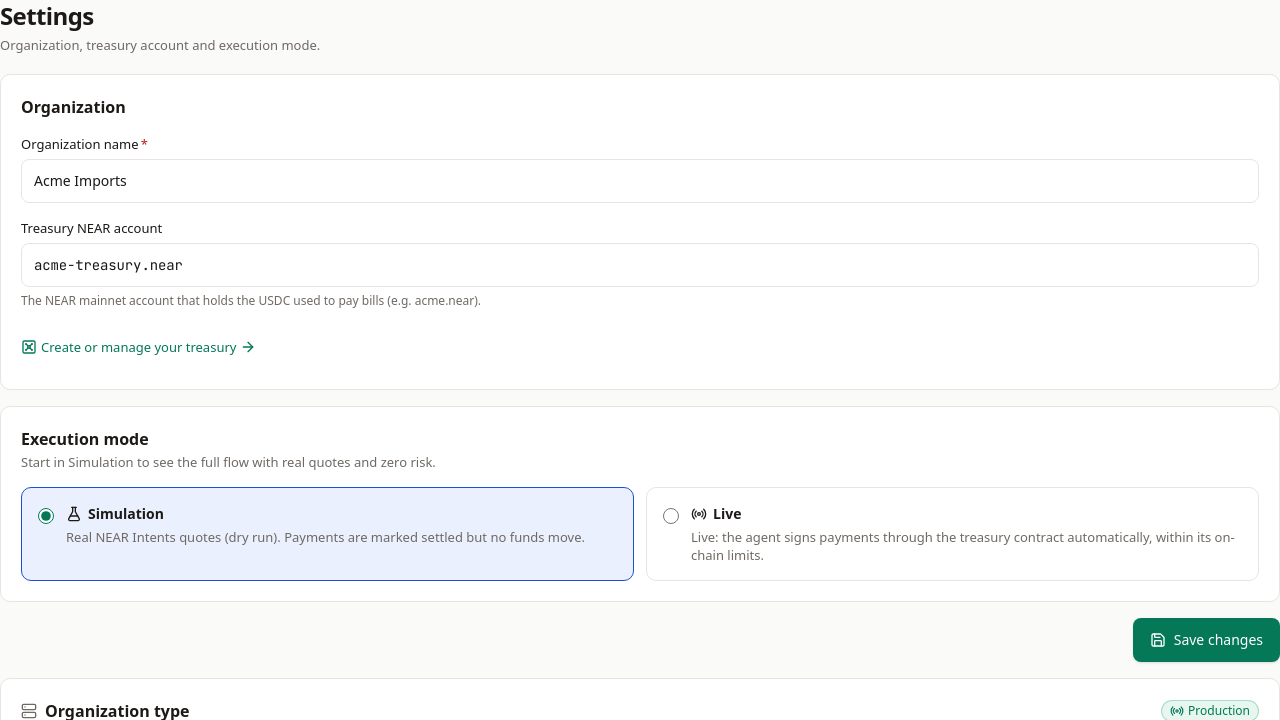
Test: settings: treasury › shows why Live was rejected and links to Treasury
Click the radio button with test id "mode-live" at (671, 516), box [663, 508, 679, 524]
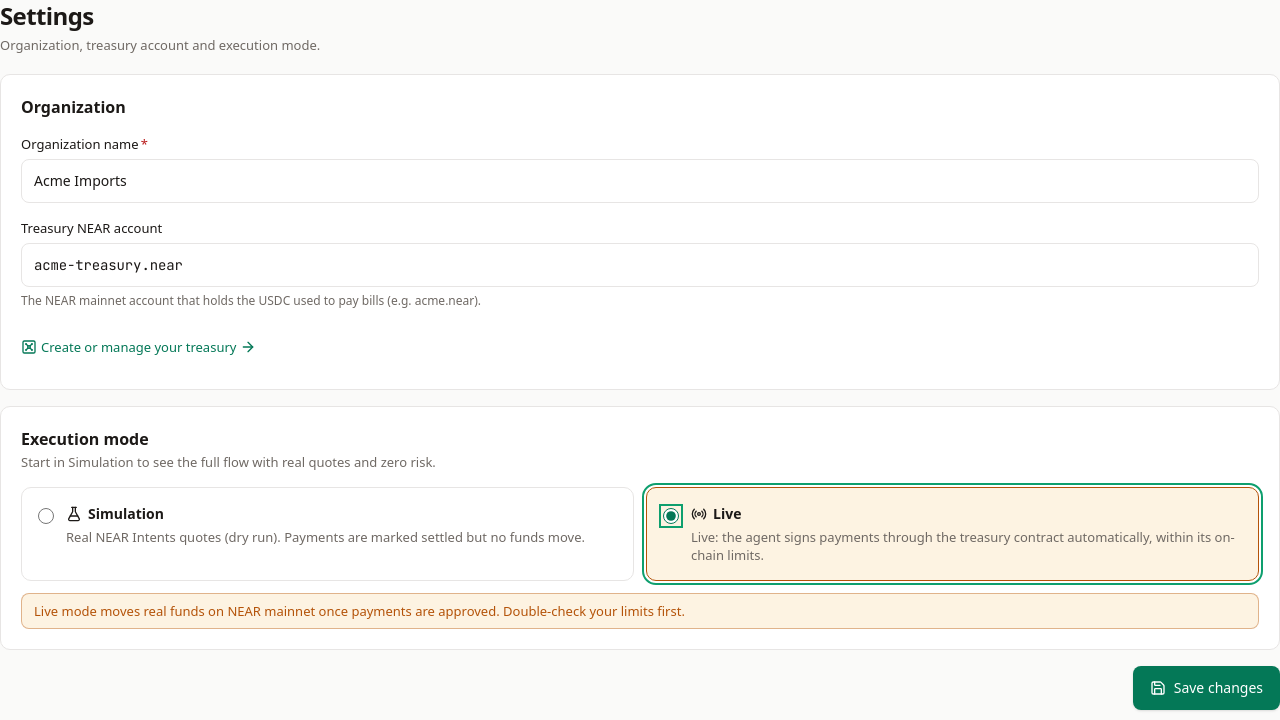
Click the button "Save changes" at (1206, 688), box [1133, 666, 1279, 710]
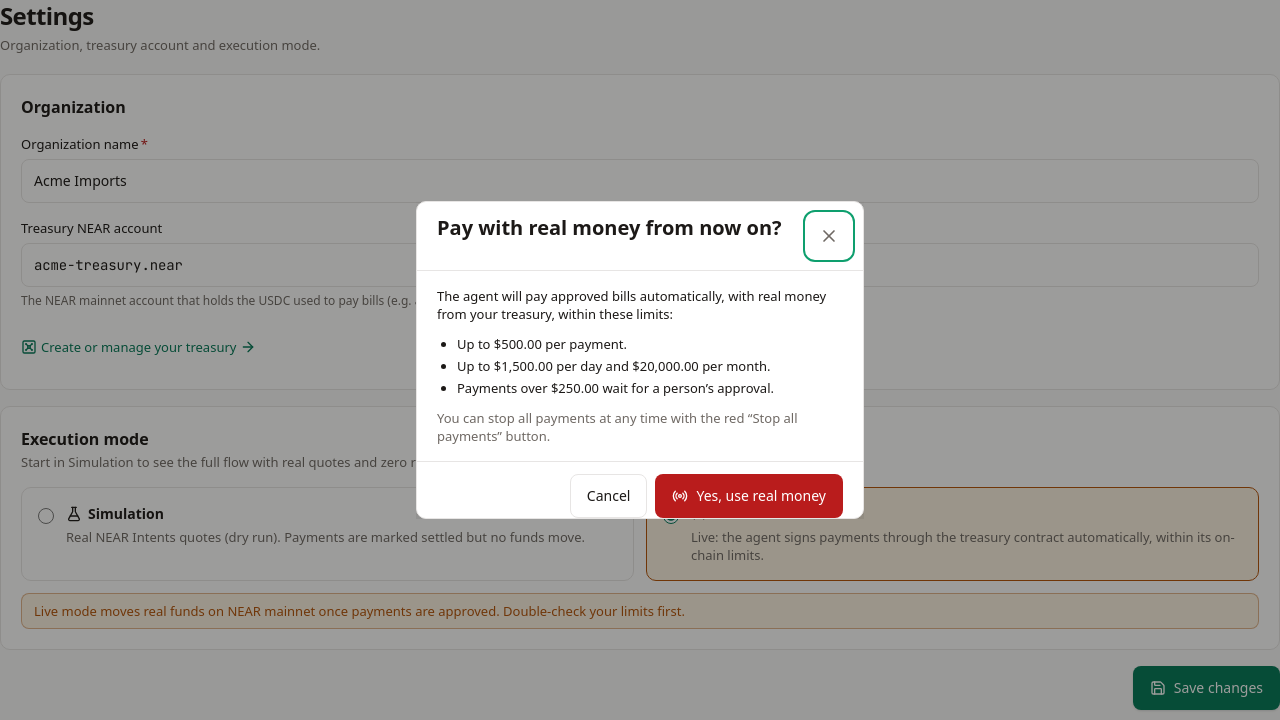
// Real money: a confirmation first.
Click the button with test id "live-confirm-dialog-confirm" at (749, 496), box [655, 474, 843, 518]
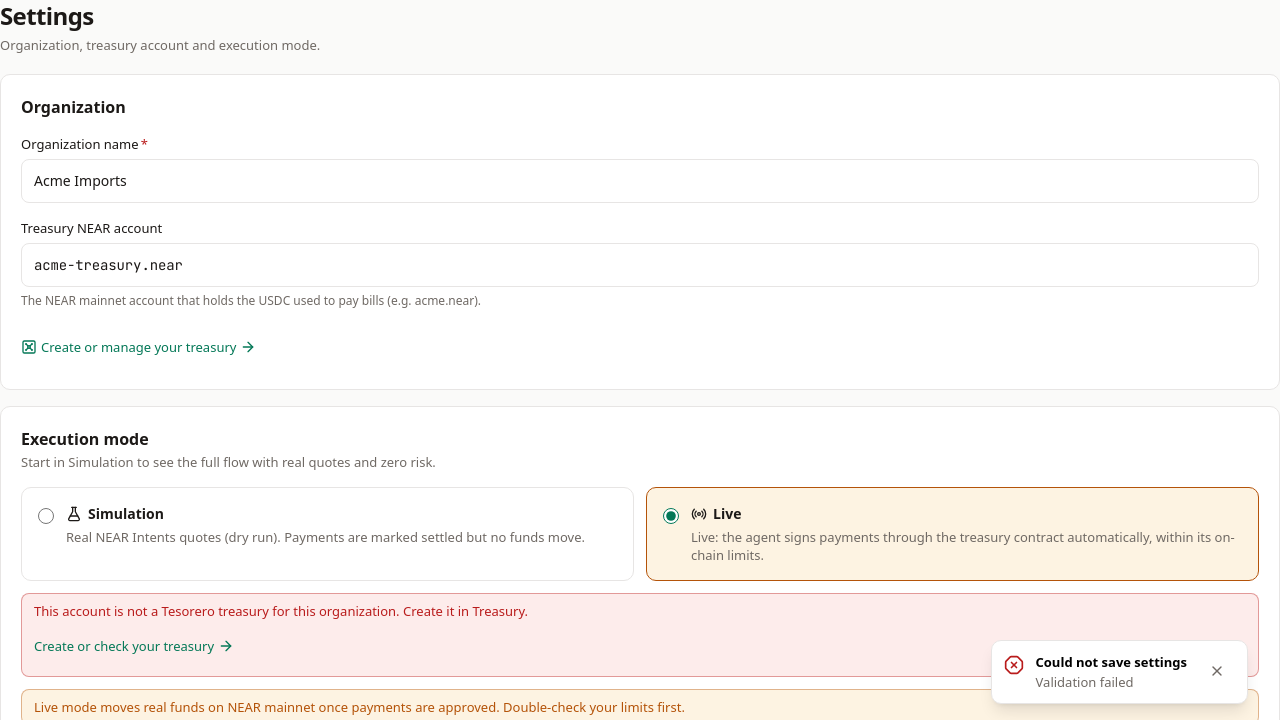
Result: the message with test id "settings-mode-error" shows "This account is not a Tesorero treasury for this organization." at [34, 602, 528, 620]
